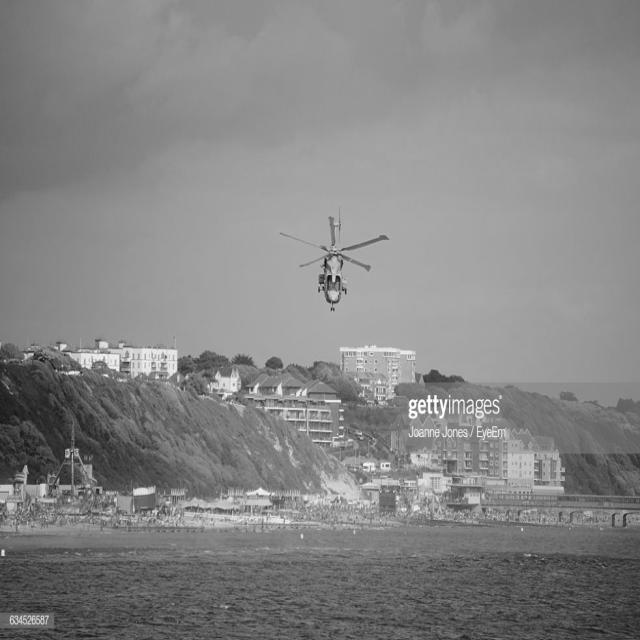helicopter: (280, 217, 389, 314)
